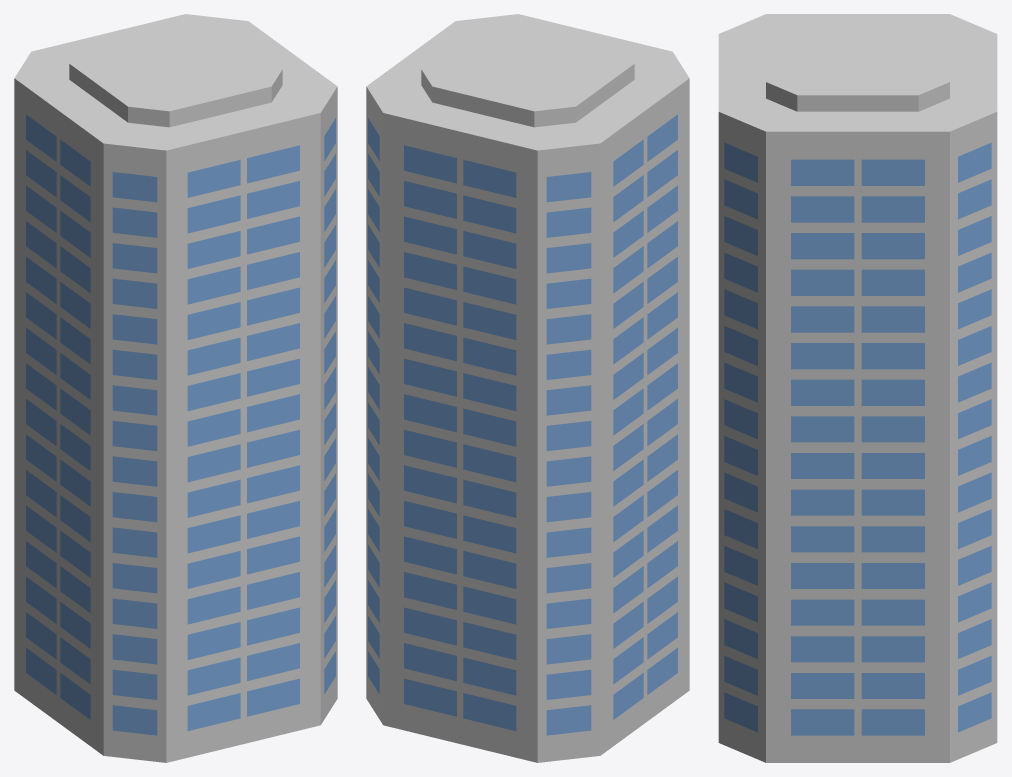
The model's file is Building_03.fbx.
3 renders of one model, left to right at view 1: azimuth 30°, elevation 25°; view 2: azimuth 150°, elevation 25°; view 3: azimuth 270°, elevation 25°, orthographic. The views are drawn at different scales.
Parts seen in each view (by area): view 1: Building_03; view 2: Building_03; view 3: Building_03.
Boxes of the visible parts, x1,y1,x2,y2 form: Building_03: [14, 14, 337, 762]; Building_03: [366, 14, 689, 762]; Building_03: [718, 14, 997, 762].
Size of the model in its own units: 936 by 2390 by 936.
